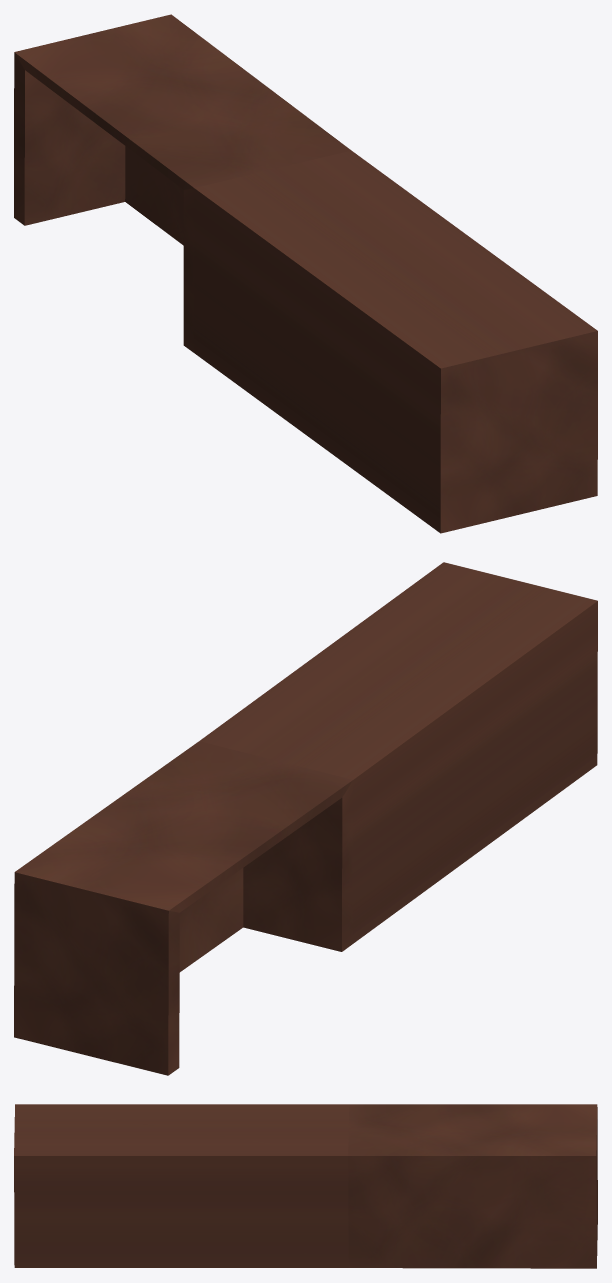
The model's file is Desk 1.fbx.
The picture shows the model from 3 angles, top to bottom: view 1: azimuth 30°, elevation 25°; view 2: azimuth 150°, elevation 25°; view 3: azimuth 270°, elevation 25°; orthographic projection. The views are drawn at different scales.
Visible parts, largest first — view 1: SC_Desk; view 2: SC_Desk; view 3: SC_Desk.
Part boxes in pixels (x1,y1,x2,y2): SC_Desk: [14, 14, 597, 533]; SC_Desk: [14, 562, 597, 1075]; SC_Desk: [14, 1104, 597, 1268].
Size of the model in its own units: 322 by 322 by 1506.
